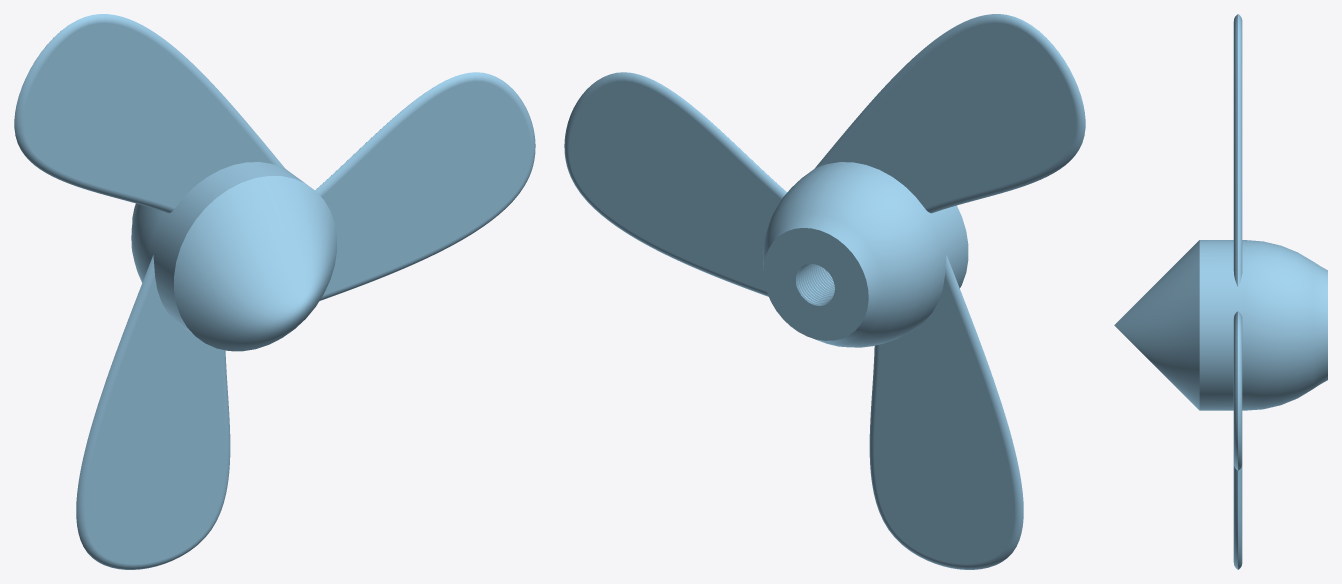
The model's file is prop.dae.
3 views of the same model, side by side, from view 1: azimuth 30°, elevation 25°; view 2: azimuth 150°, elevation 25°; view 3: azimuth 270°, elevation 25° (orthographic). The views are drawn at different scales.
Visible parts, largest first — view 1: ID2; view 2: ID2; view 3: ID2.
Boxes of the visible parts, x1=… form: ID2: x1=14, y1=14, x2=535, y2=569; ID2: x1=564, y1=14, x2=1085, y2=569; ID2: x1=1114, y1=14, x2=1327, y2=569.
Size of the model in its own units: 0.1618 by 0.0635 by 0.1682.
